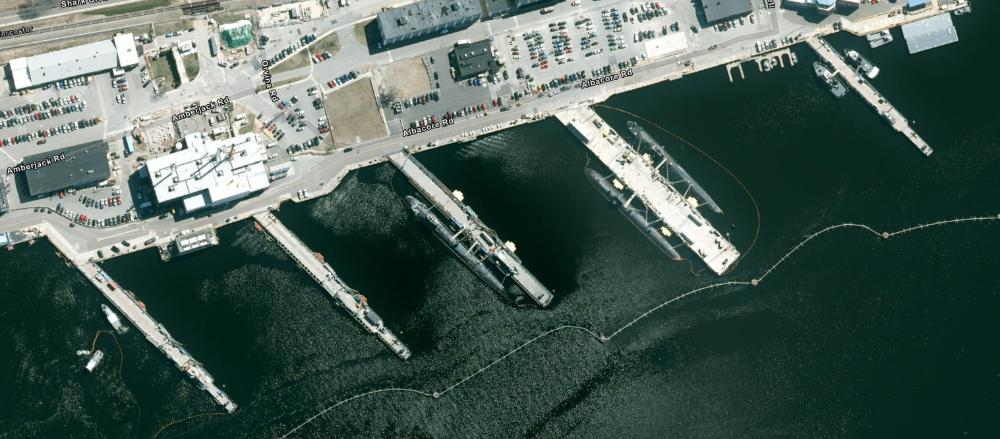submarine: (404, 187, 522, 315), (621, 109, 738, 220), (577, 166, 685, 277)
